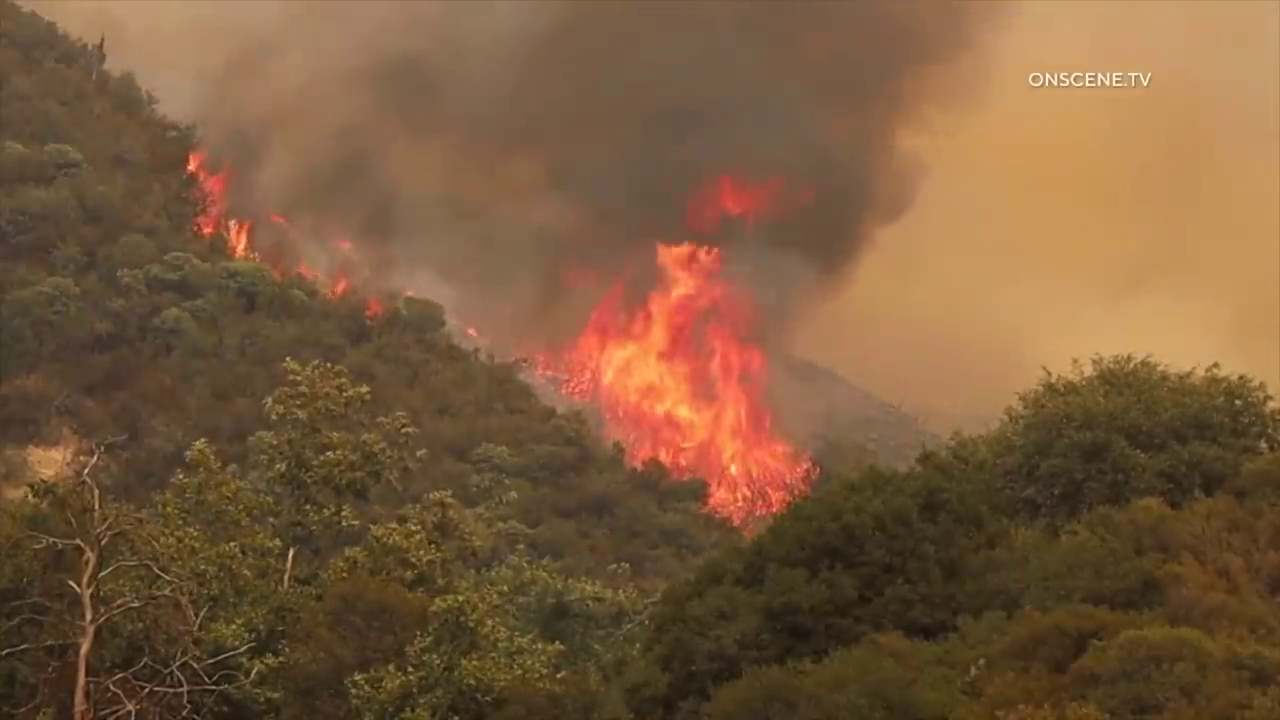forest_fire: (530, 240, 815, 525), (186, 149, 352, 294), (687, 175, 785, 235), (264, 213, 289, 231), (333, 238, 352, 258), (366, 299, 383, 318), (467, 327, 478, 336), (798, 193, 802, 200)
